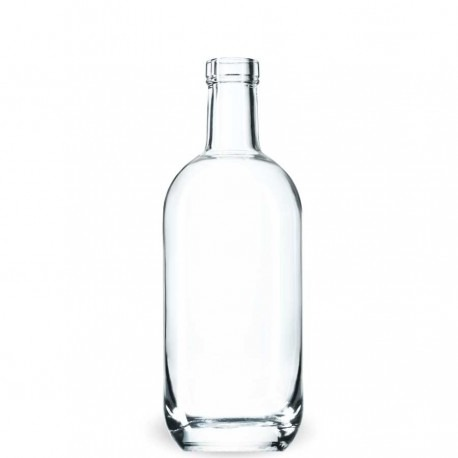container: (156, 53, 316, 458)
